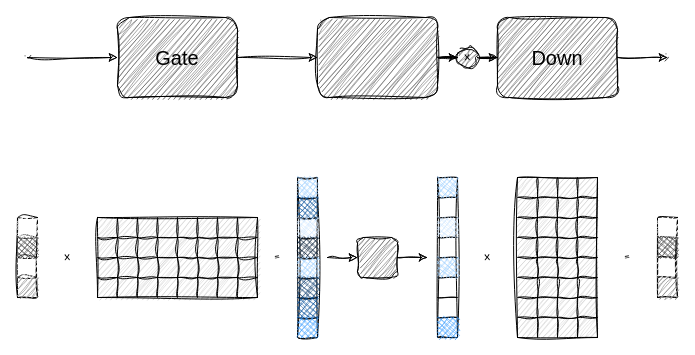
The diagram is 695 pixels wide and 355 high, and some of its shapes have lost their labels. Here are the shapes that lost their labels. From the top down, the centre of each, then its label:
At [377,57]: "Activation".
At [377,257]: "Act".
